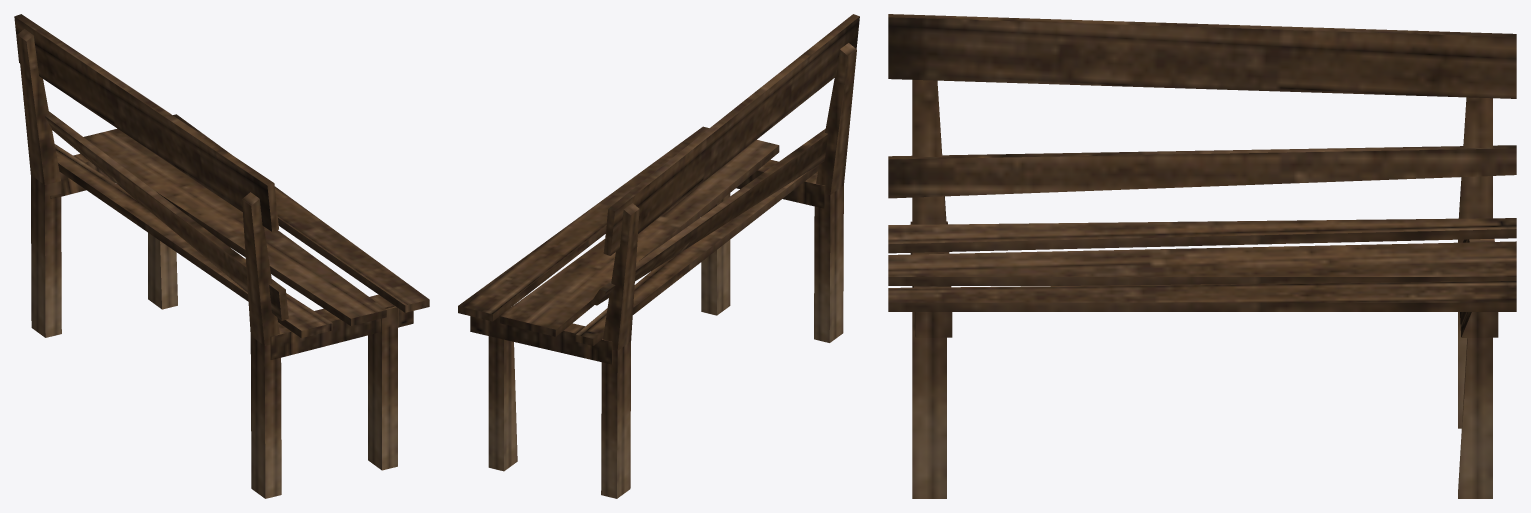
File: Bench.fbx
The picture shows the model from 3 angles, left to right: view 1: azimuth 30°, elevation 25°; view 2: azimuth 150°, elevation 25°; view 3: azimuth 270°, elevation 25°; orthographic projection. The views are drawn at different scales.
Visible parts, largest first — view 1: Bench; view 2: Bench; view 3: Bench.
Part boxes in pixels (bbox=[...]): Bench: bbox=[14, 14, 429, 498]; Bench: bbox=[458, 14, 859, 498]; Bench: bbox=[888, 14, 1516, 498].
Bounding box in the file's own units: 0.5202 × 0.951 × 1.35.
1 material, 1 textured.
